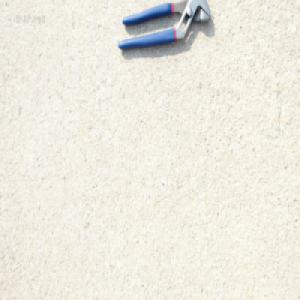Pliers: (117, 0, 211, 53)
